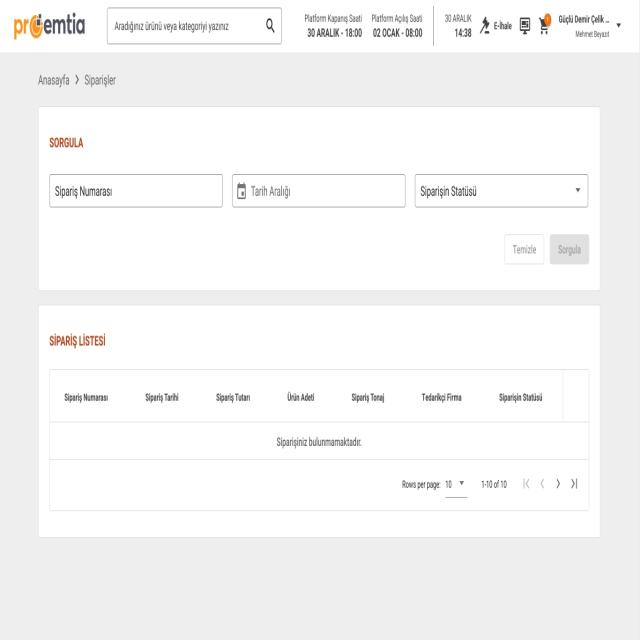QLabel: (48, 331, 108, 349), (304, 10, 364, 23), (558, 12, 611, 26), (306, 26, 362, 39), (372, 26, 423, 40), (49, 132, 85, 151), (371, 12, 424, 24), (556, 239, 582, 259), (511, 240, 538, 258), (574, 28, 612, 40), (444, 12, 472, 24), (493, 20, 513, 32), (454, 26, 473, 38)
VAppBar: (0, 0, 640, 56)
VBadge: (538, 13, 552, 36)
VBreadcrumbs: (36, 68, 118, 92)
VBtn: (549, 234, 590, 266), (504, 234, 544, 265)
VCard: (39, 304, 601, 540), (38, 106, 600, 290)
VCombobox: (415, 172, 588, 208)
VDataTable: (48, 369, 590, 513)
VDivider: (432, 4, 436, 49)
VIcon: (518, 13, 532, 37), (480, 15, 490, 36), (615, 20, 624, 32)
VImg: (13, 11, 86, 41)
VInlineDatepicker: (232, 173, 406, 209)
VTextField: (106, 7, 282, 45), (49, 174, 222, 208)
